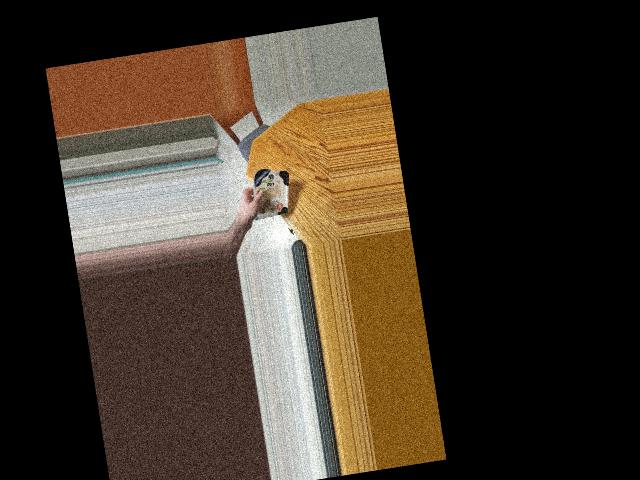cheese: (248, 163, 295, 230)
